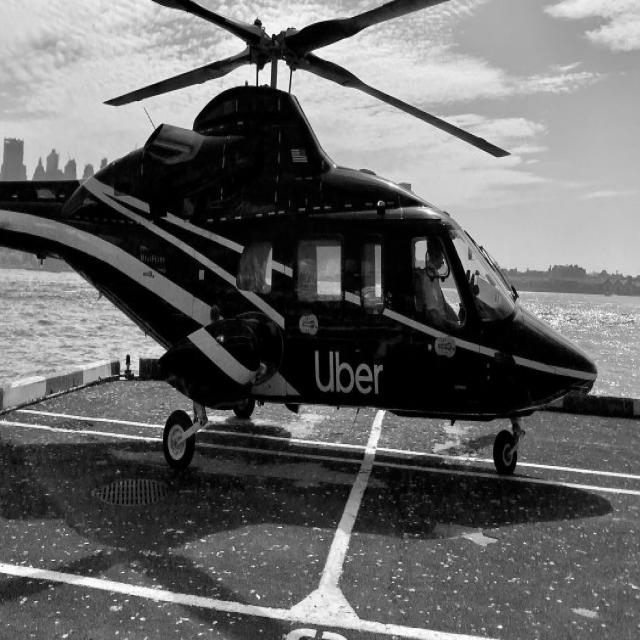helicopter: (1, 1, 640, 476)
